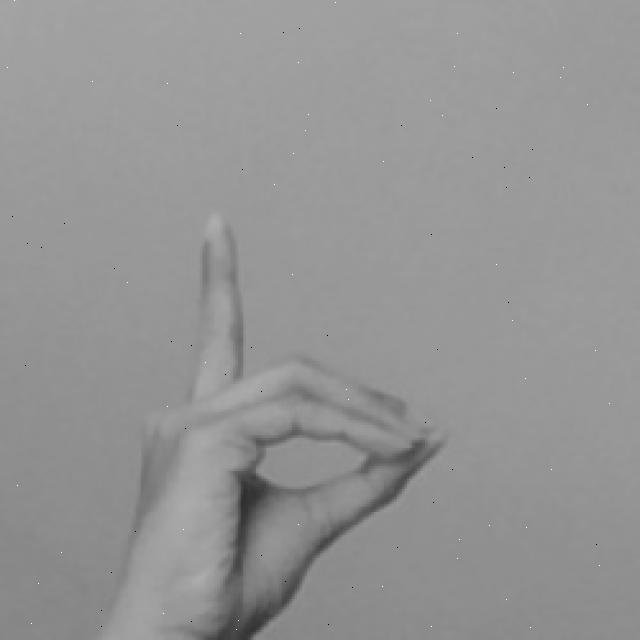D: (99, 210, 446, 640)
